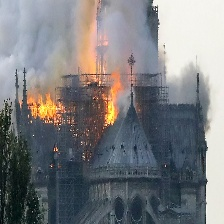fire: (18, 93, 66, 126), (101, 77, 125, 127), (97, 25, 109, 47), (52, 146, 60, 153)
smoke: (1, 1, 211, 108)
